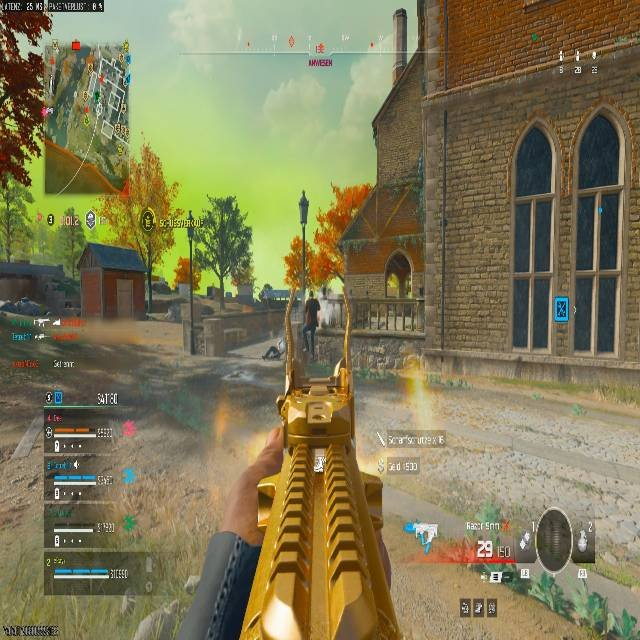head: (264, 283, 271, 289)
player: (301, 296, 320, 351), (260, 283, 273, 303)
